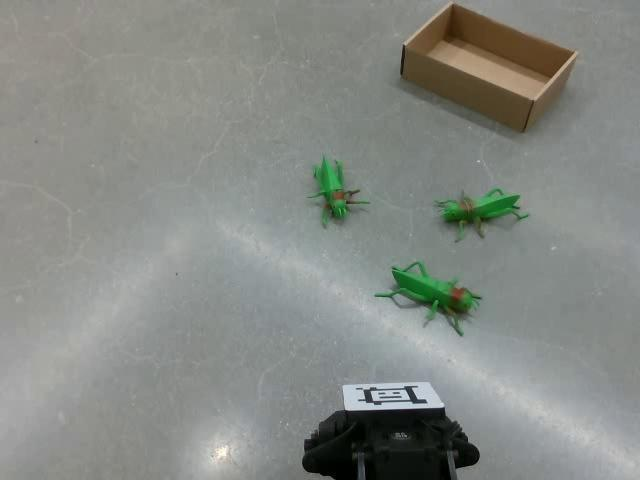box: (399, 1, 579, 133)
grasshopper: (373, 259, 482, 336), (432, 186, 529, 242), (306, 152, 370, 228)
